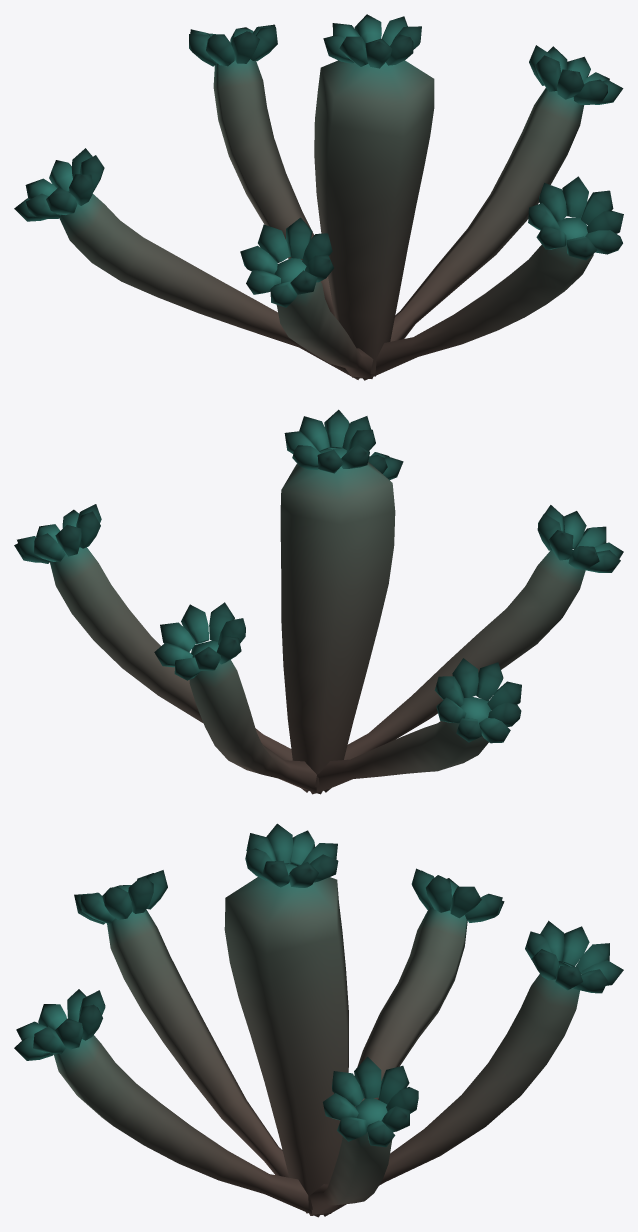
File: plants-cacti-succulents-fan-succulent_v7.glb
The picture shows the model from 3 angles, top to bottom: view 1: azimuth 30°, elevation 25°; view 2: azimuth 150°, elevation 25°; view 3: azimuth 270°, elevation 25°; orthographic projection. The views are drawn at different scales.
Parts seen in each view (by area): view 1: Fan Succulent_v7; view 2: Fan Succulent_v7; view 3: Fan Succulent_v7.
Part boxes in pixels (x1,y1,x2,y2): Fan Succulent_v7: [14, 14, 623, 380]; Fan Succulent_v7: [14, 409, 623, 794]; Fan Succulent_v7: [14, 823, 623, 1217].
Size of the model in its own units: 0.3 by 0.1886 by 0.2816.
